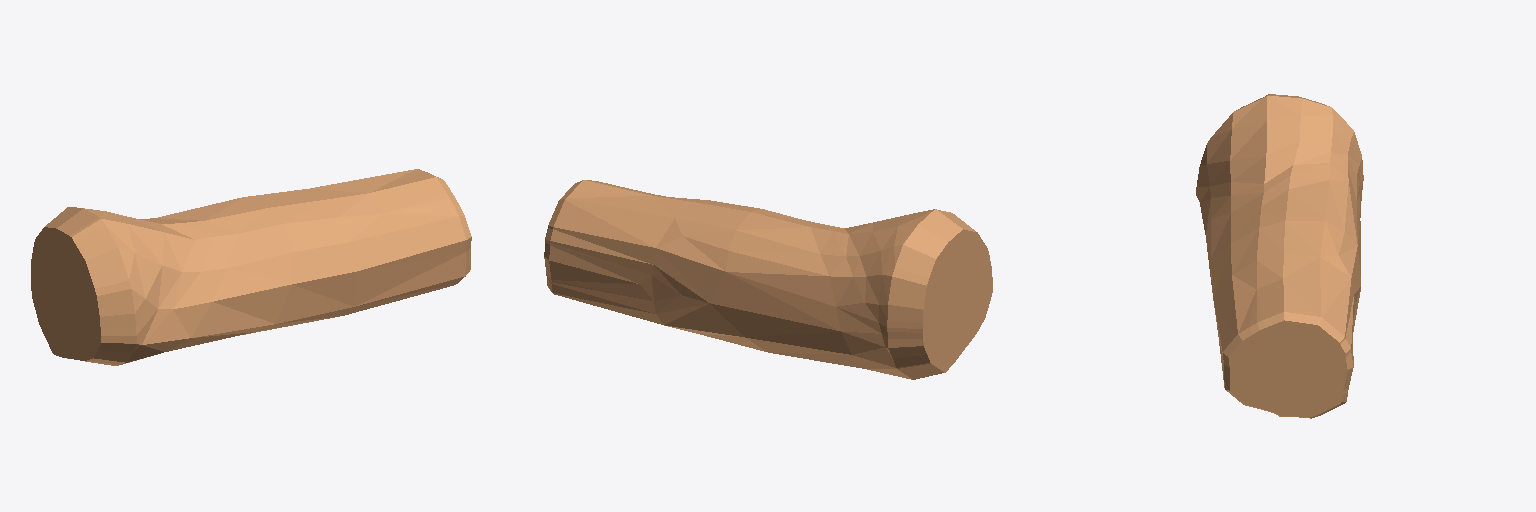
File: rightshoulder.obj
3 renders of one model, left to right at view 1: azimuth 30°, elevation 25°; view 2: azimuth 150°, elevation 25°; view 3: azimuth 270°, elevation 25°, orthographic.
Parts seen in each view (by area): view 1: Mesh1 Model; view 2: Mesh1 Model; view 3: Mesh1 Model.
Boxes of the visible parts, box(x1,y1,x2,y2) form: Mesh1 Model: box(31, 169, 471, 365); Mesh1 Model: box(544, 180, 992, 379); Mesh1 Model: box(1196, 94, 1363, 418).
Bounding box in the file's own units: 9.06 × 3.72 × 3.46.